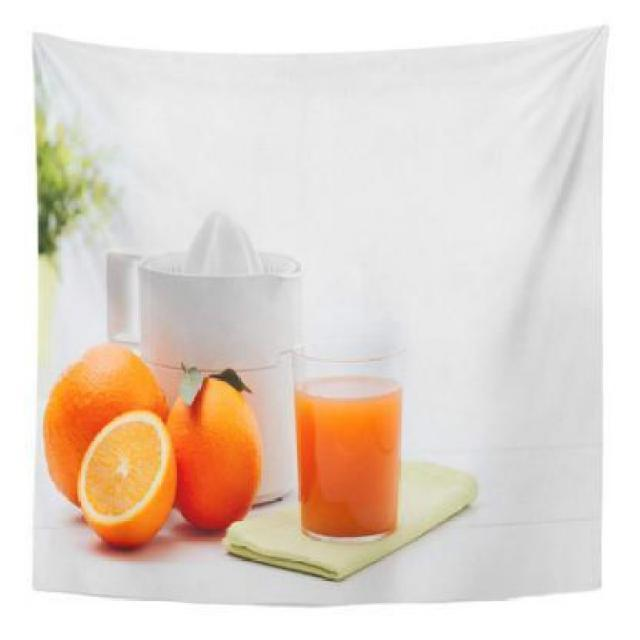Jeruk Sudah Matang: (154, 366, 268, 525), (49, 345, 162, 503)
